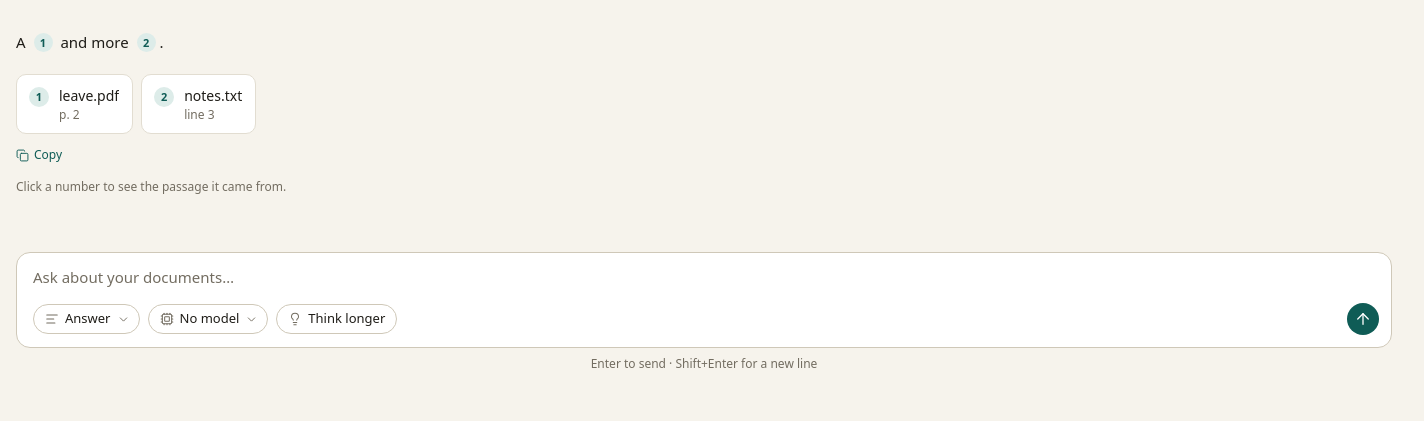
Test: checking a source from an answer › opens the source as it is when too little text comes before the chip
The image size is (1424, 421).
Click the button with class "cite" showing "1" at point(43, 42), box [34,33,52,52]
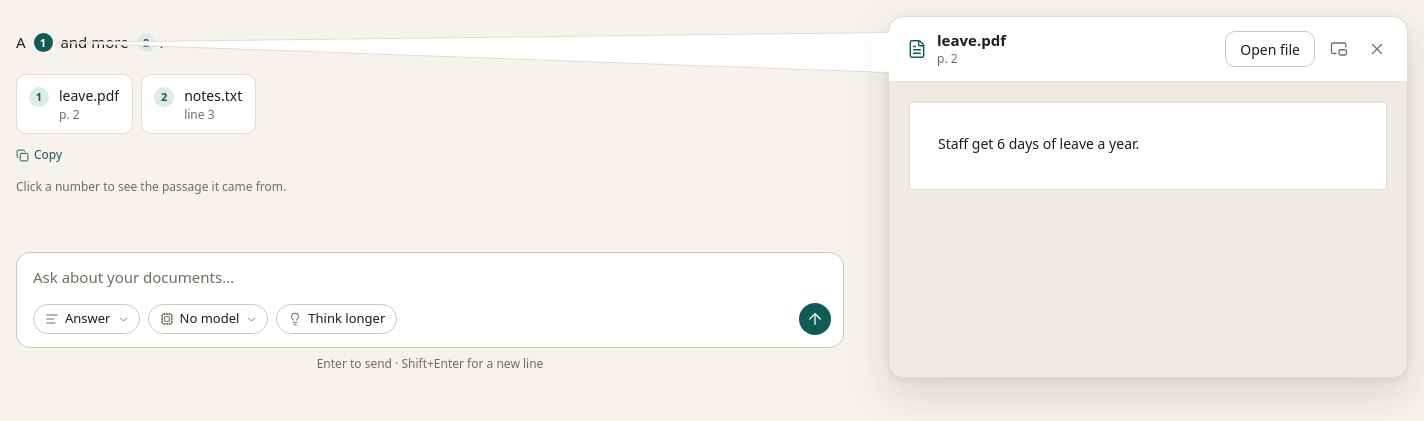
expect the element showing "Staff get 6 days of leave a year." is shown: met, box [909,102,1387,190]
